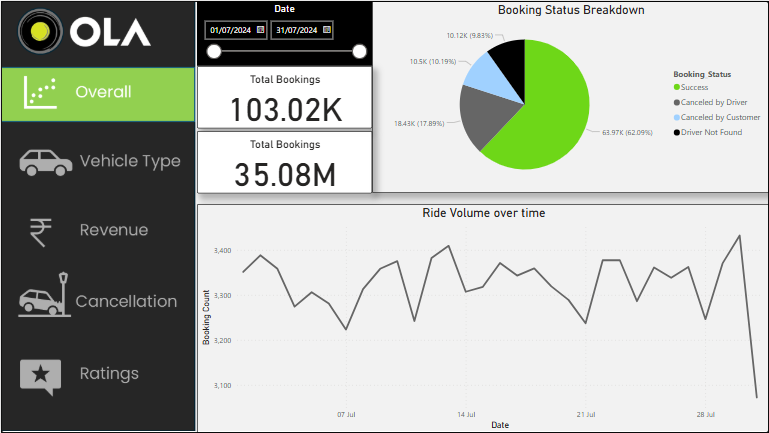

This screenshot's page, from the dashboard's own definition file:
{"tool":"powerbi","page":{"name":"Overall","canvas":[1280,720],"ordinal":0},"visuals":[{"type":"actionButton","box":[0,221.8,325.4,92.2],"z":0},{"type":"actionButton","box":[0,337,325.4,92.2],"z":1000},{"type":"actionButton","box":[0,447.8,325.4,92.2],"z":2000},{"type":"actionButton","box":[0,576,325.4,92.2],"z":3000},{"type":"lineChart","title":"Ride Volume over time","fields":{"Category":["July.Date"],"Y":["CountNonNull(July.Booking_ID)"]},"box":[325.5,337.2,954.5,382.5],"z":4000},{"type":"pieChart","title":"Booking Status Breakdown","fields":{"Category":["July.Booking_Status"],"Y":["CountNonNull(July.Booking_Status)"]},"box":[666,0,614,337.2],"z":5000},{"type":"slicer","title":"Date","fields":{"Values":["July.Date"]},"box":[347.3,0,293.6,107.4],"z":6000},{"type":"card","title":"Total Bookings","fields":{"Values":["CountNonNull(July.Booking_ID)"]},"box":[347.3,117.4,293.6,104],"z":7000},{"type":"card","title":"Total Bookings","fields":{"Values":["Sum(July.Booking_Value)"]},"box":[347.3,233.2,293.6,104],"z":8000}]}

Visuals, with their boxes in screenshot pixels (x1, y1, x2, y2), scaled from the page's 1280x720 canvas onto the 769x433 screenshot:
actionButton: {"left": 0, "top": 133, "right": 195, "bottom": 189}
actionButton: {"left": 0, "top": 203, "right": 195, "bottom": 258}
actionButton: {"left": 0, "top": 269, "right": 195, "bottom": 325}
actionButton: {"left": 0, "top": 346, "right": 195, "bottom": 402}
"Ride Volume over time" lineChart: {"left": 196, "top": 203, "right": 768, "bottom": 432}
"Booking Status Breakdown" pieChart: {"left": 400, "top": 0, "right": 768, "bottom": 203}
"Date" slicer: {"left": 209, "top": 0, "right": 385, "bottom": 65}
"Total Bookings" card: {"left": 209, "top": 71, "right": 385, "bottom": 133}
"Total Bookings" card: {"left": 209, "top": 140, "right": 385, "bottom": 203}
